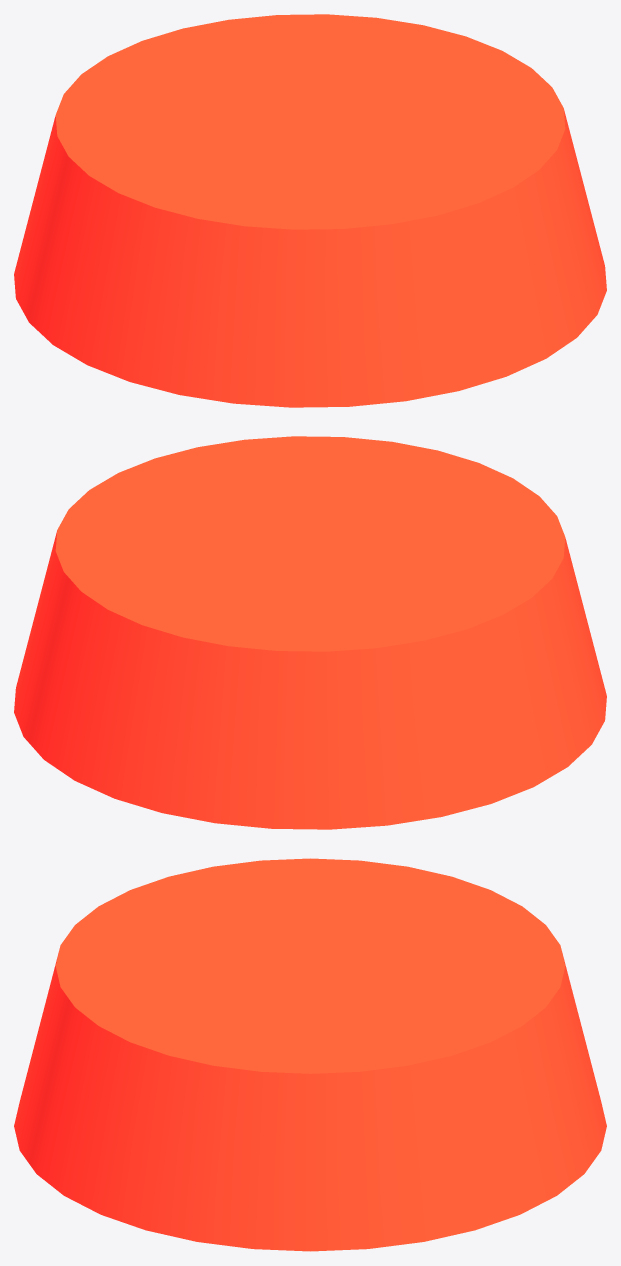
The model's file is button 2.fbx.
3 renders of one model, top to bottom at view 1: azimuth 30°, elevation 25°; view 2: azimuth 150°, elevation 25°; view 3: azimuth 270°, elevation 25°, orthographic.
Parts seen in each view (by area): view 1: Cylinder.010; view 2: Cylinder.010; view 3: Cylinder.010.
Boxes of the visible parts, x1,y1,x2,y2 form: Cylinder.010: (14, 14, 606, 407); Cylinder.010: (14, 436, 606, 829); Cylinder.010: (14, 858, 606, 1251).
Size of the model in its own units: 111 by 33.09 by 111.
